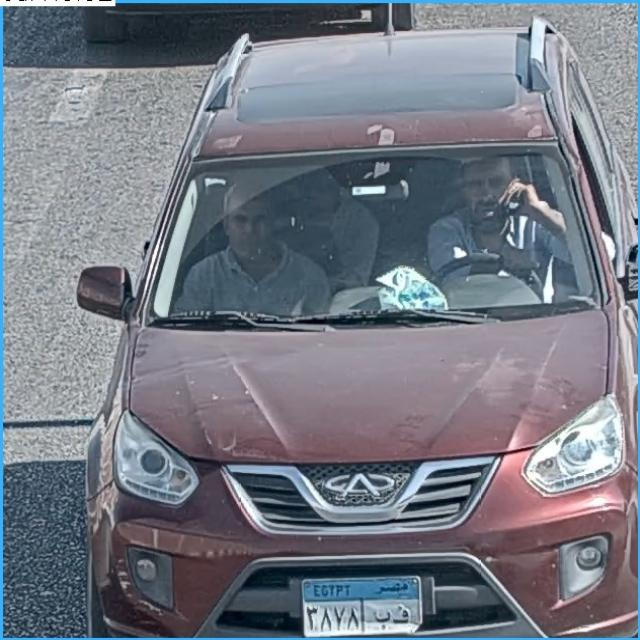windshield: (148, 154, 605, 320)
